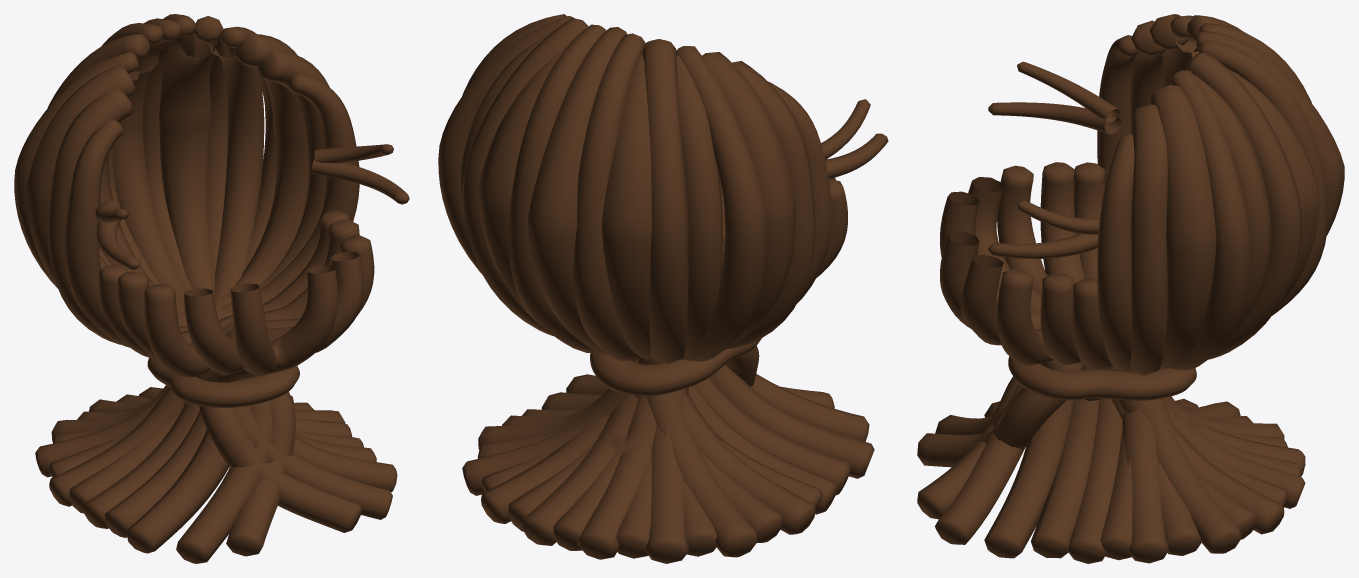
Rendered from Dreads_Solid_Color_Baked.fbx.
3 renders of one model, left to right at view 1: azimuth 30°, elevation 25°; view 2: azimuth 150°, elevation 25°; view 3: azimuth 270°, elevation 25°, orthographic. The views are drawn at different scales.
Parts seen in each view (by area): view 1: Dreads Solid Color_Baked; view 2: Dreads Solid Color_Baked; view 3: Dreads Solid Color_Baked.
Boxes of the visible parts, x1,y1,x2,y2 form: Dreads Solid Color_Baked: (14, 14, 409, 563); Dreads Solid Color_Baked: (438, 14, 888, 563); Dreads Solid Color_Baked: (917, 14, 1344, 563).
Size of the model in its own units: 96.58 by 137 by 114.
